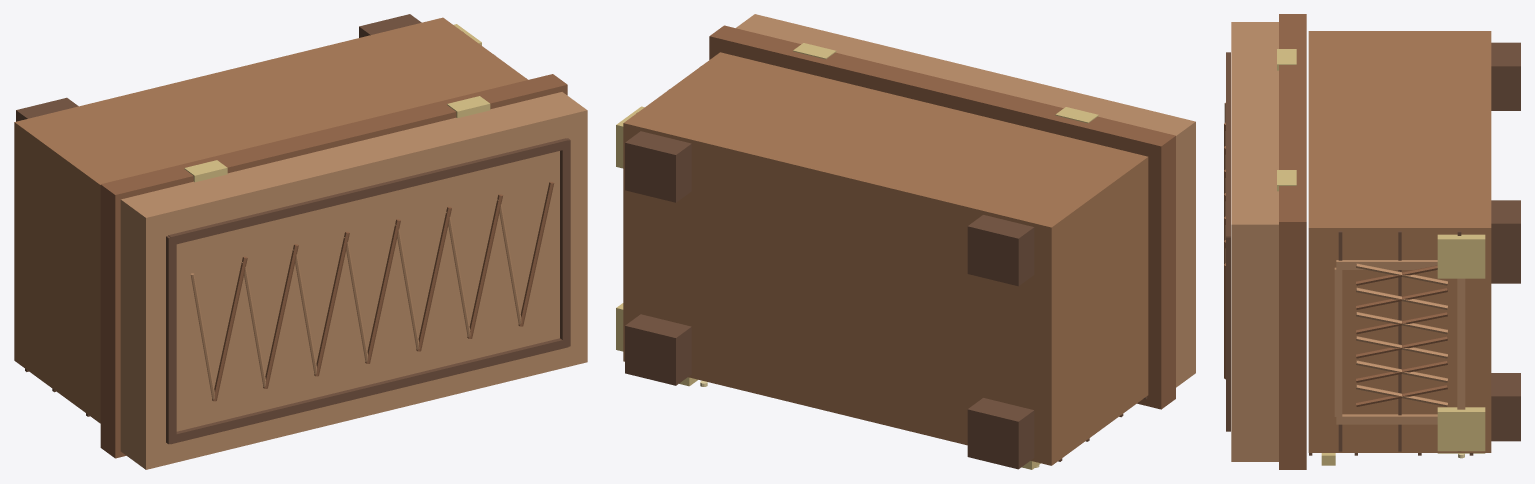
Rendered from balok objek untuk level 2.glb.
The picture shows the model from 3 angles, left to right: view 1: azimuth 30°, elevation 25°; view 2: azimuth 150°, elevation 25°; view 3: azimuth 270°, elevation 25°; orthographic projection. The views are drawn at different scales.
Visible parts, largest first — view 1: Lid wooden top, Main wooden chest body, Lid lower rim, Top panel short border, Top panel short border_1, Top panel long border, Top panel long border_1, Lid engraved motif, Lid engraved motif_8, Lid engraved motif_2, Lid engraved motif_10, Lid engraved motif_12 (+6 smaller); view 2: Main wooden chest body, Lid lower rim, Lid wooden top, Dark wooden foot, Dark wooden foot_1, Dark wooden foot_3, Dark wooden foot_2; view 3: Main wooden chest body, Lid wooden top, Lid lower rim, Brass corner guard side_1, Brass corner guard side, Dark wooden foot_1, Dark wooden foot_2, Dark wooden foot_3, Right side inset horizontal_1, Right side inset horizontal, Right side inset vertical, Top panel long border_1 (+18 smaller).
Boxes of the visible parts, x1,y1,x2,y2 form: Lid wooden top: (120,92,587,469); Main wooden chest body: (14,17,527,423); Lid lower rim: (100,74,567,458); Top panel short border: (171,338,568,444); Top panel short border_1: (168,138,568,244); Top panel long border: (166,236,176,444); Top panel long border_1: (560,138,570,347); Lid engraved motif: (212,256,247,401); Lid engraved motif_8: (416,206,451,351); Lid engraved motif_2: (263,244,298,388); Lid engraved motif_10: (467,194,502,338); Lid engraved motif_12: (518,181,554,326); Main wooden chest body: (623,52,1148,465); Lid lower rim: (709,25,1175,409); Lid wooden top: (736,14,1195,387); Dark wooden foot: (967,398,1034,469); Dark wooden foot_1: (967,215,1034,286); Dark wooden foot_3: (625,131,691,202); Dark wooden foot_2: (625,314,691,385); Main wooden chest body: (1308,31,1491,452); Lid wooden top: (1231,22,1278,461); Lid lower rim: (1279,14,1306,469); Brass corner guard side_1: (1437,234,1485,278); Brass corner guard side: (1437,407,1485,451); Dark wooden foot_1: (1491,42,1520,110); Dark wooden foot_2: (1491,373,1520,441); Dark wooden foot_3: (1491,200,1520,268); Right side inset horizontal_1: (1334,267,1342,416); Right side inset horizontal: (1457,278,1465,409); Right side inset vertical: (1336,414,1437,424); Top panel long border_1: (1226,236,1230,431).
Bounding box in the file's own units: 2.48 × 1.47 × 1.5.
